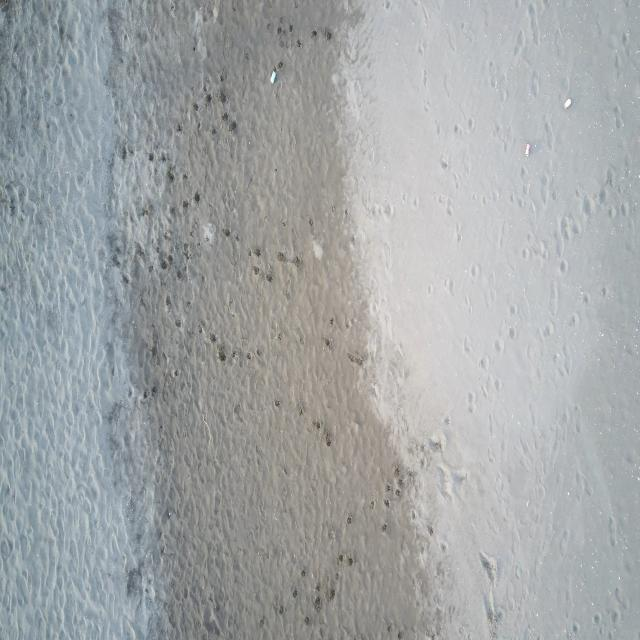tin-and-aluminum-cans: (524, 142, 531, 157), (564, 98, 572, 110), (272, 69, 278, 84)
